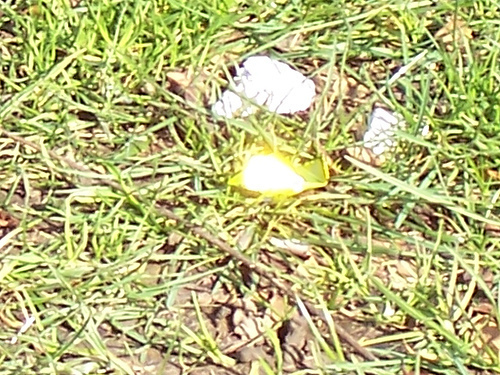litter: (216, 56, 316, 123), (235, 151, 328, 191), (364, 108, 427, 163)
